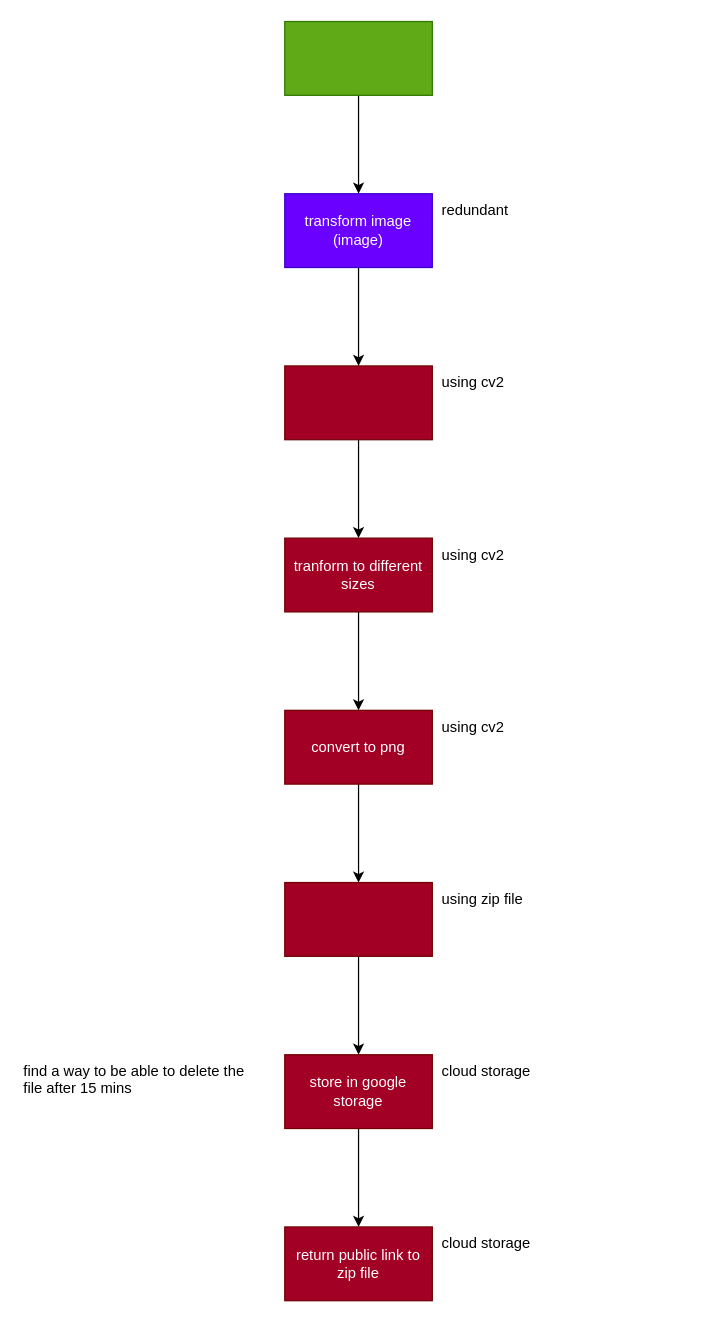
Image size: 706x1322. Some labels were removed from this diagram. The box of each missing label's shape, as (x1, y1, x2, y2) in pixels:
create a zip file: (284, 881, 432, 956)
get image: (284, 20, 432, 95)
remove background: (284, 365, 432, 440)
